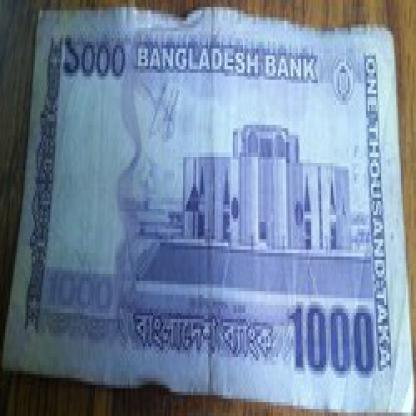One Thousand taka: (284, 305, 380, 381), (47, 267, 118, 322), (63, 31, 128, 90)
